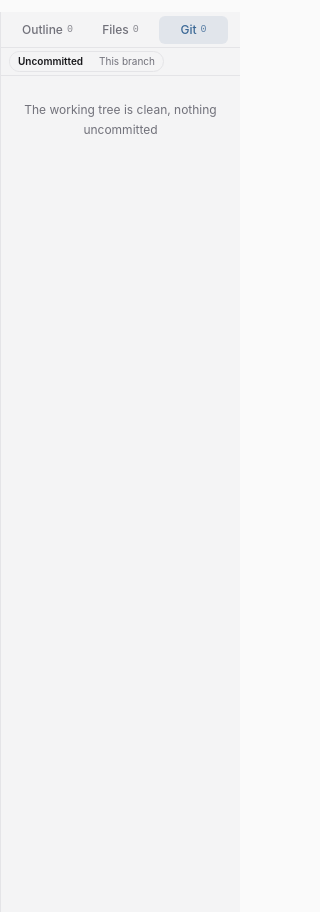
Test: Git tab · 本分支档与基线 › picks a baseline from the branch dropdown, persists it per session and refetches
Step 1. Click the tab "This branch" → (127, 62), box [91,52,163,71]
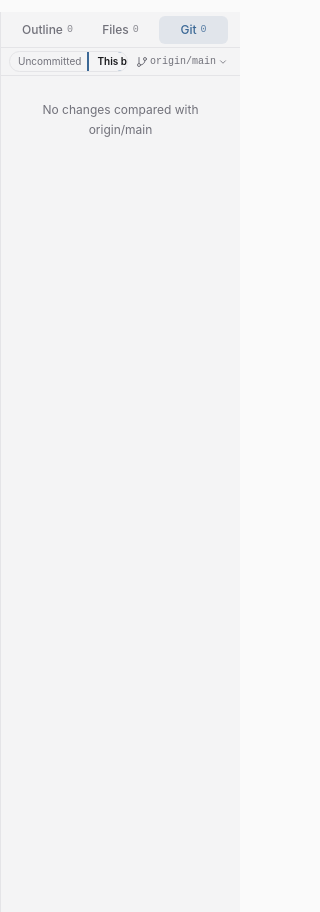
Step 2. Click the button with aria-label "Compare against: origin/main" → (182, 62), box [132,52,232,71]
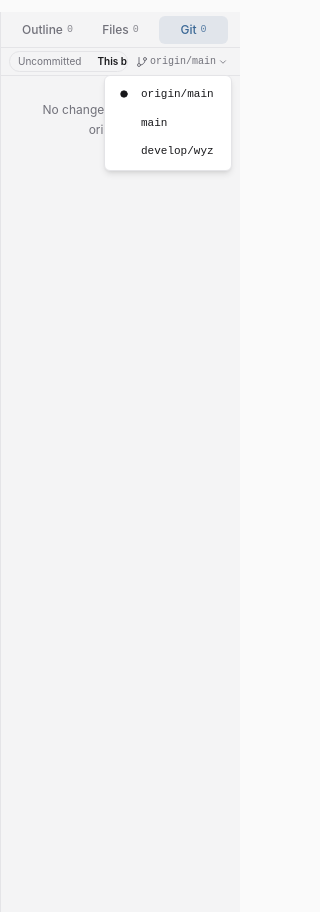
Step 3. Click the menu item "develop/wyz" → (177, 151), box [141,145,214,157]
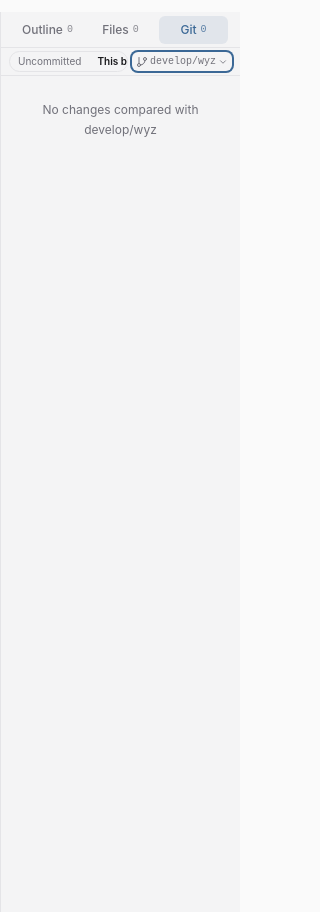
Expected: the text "develop/wyz" is shown, [150,54,216,69]
